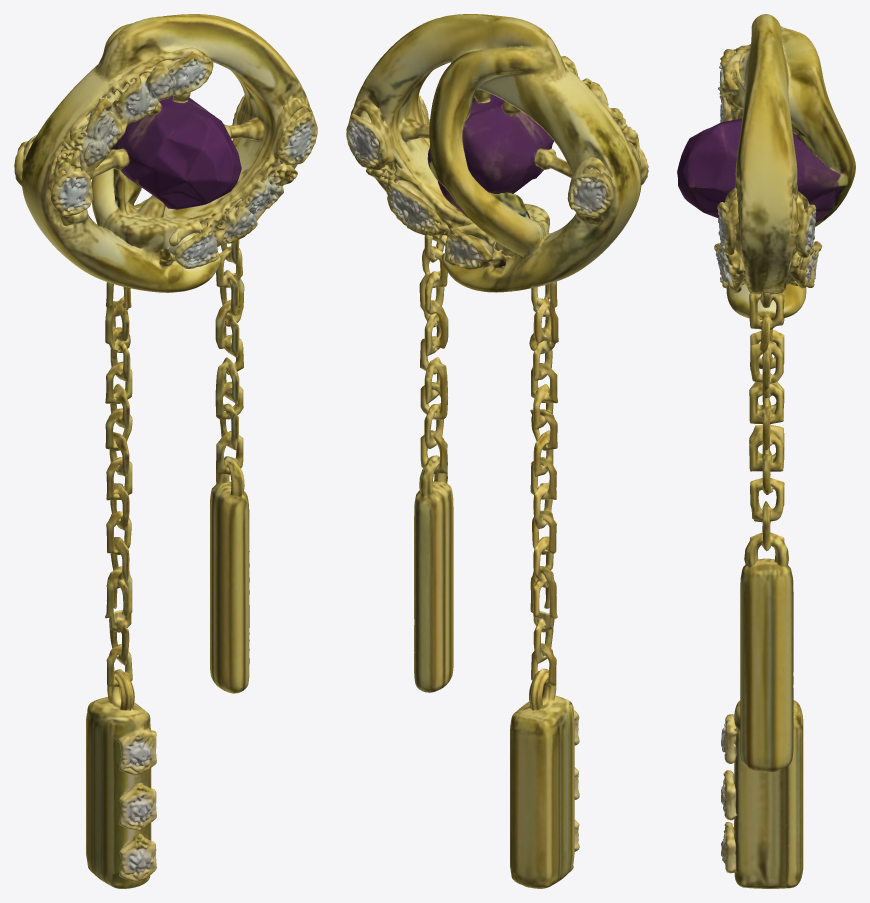
File: 1773664670076-sample_2026-03-16T125714.770.glb
3 views of the same model, side by side, from view 1: azimuth 30°, elevation 25°; view 2: azimuth 150°, elevation 25°; view 3: azimuth 270°, elevation 25° (orthographic). The views are drawn at different scales.
Parts seen in each view (by area): view 1: world; view 2: world; view 3: world.
Boxes of the visible parts, x1,y1,x2,y2 form: world: (14,14,317,888); world: (346,14,648,888); world: (677,14,855,888).
Bounding box in the file's own units: 0.3315 × 1 × 0.1851.
1 material, 1 textured.
